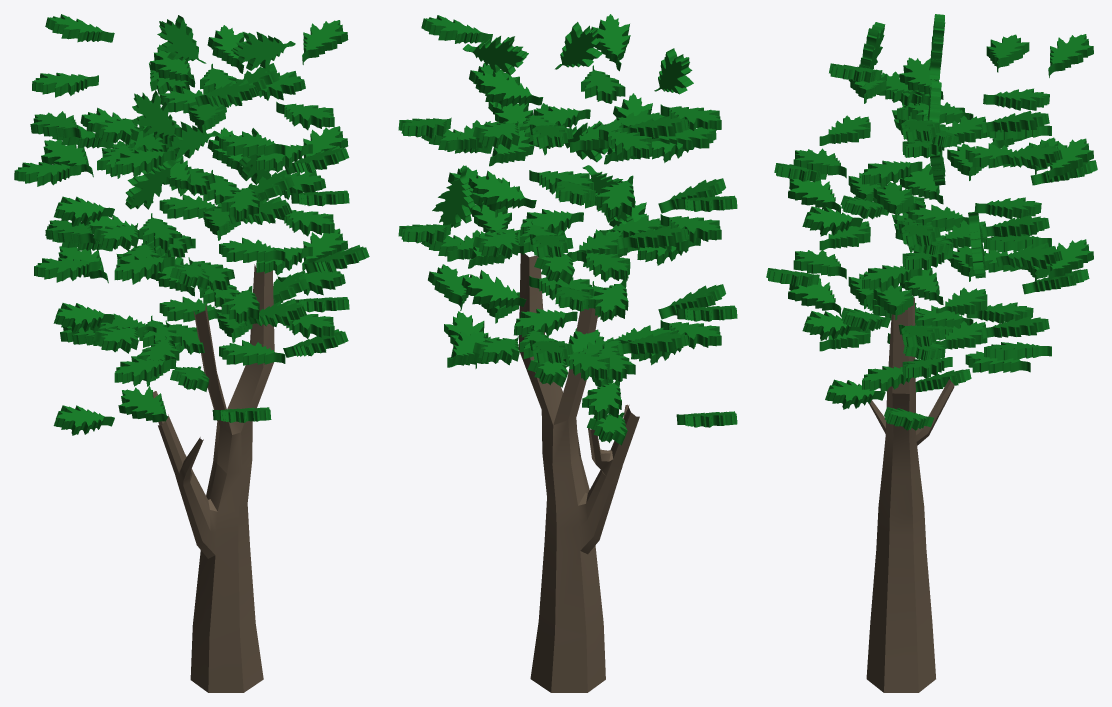
Rendered from tree-oak.glb.
The picture shows the model from 3 angles, left to right: view 1: azimuth 30°, elevation 25°; view 2: azimuth 150°, elevation 25°; view 3: azimuth 270°, elevation 25°; orthographic projection. The views are drawn at different scales.
Parts seen in each view (by area): view 1: Shape 0 (×77), Cylinder; view 2: Shape 0 (×63), Cylinder; view 3: Shape 0 (×65), Cylinder.
Boxes of the visible parts, box(x1,y1,x2,y2) form: Shape 0 (×77): box(14, 14, 369, 435); Cylinder: box(153, 264, 274, 692); Shape 0 (×63): box(398, 14, 737, 445); Cylinder: box(518, 253, 639, 692); Shape 0 (×65): box(766, 14, 1097, 430); Cylinder: box(866, 297, 954, 692).
Size of the model in its own units: 0.662 by 1.4 by 0.652.
